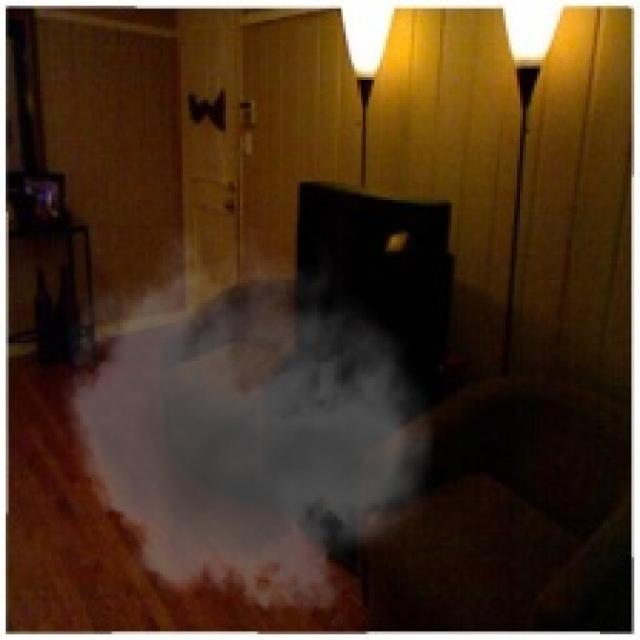Smoke: (48, 226, 434, 632)
